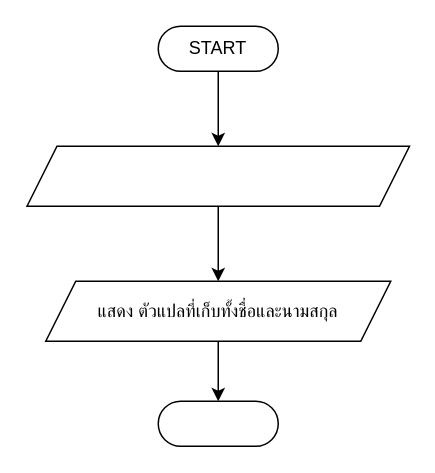
Some shapes in this 435 by 473 pixel diagram are drawn without their labels. Here are the shapes that lost their labels. From the top down, the centre of each, then its label:
At (218,175): "รับค่าชื่อและนามสกุล เก็บไว้ในตัวแปลเดียว".
At (217,423): "END".
